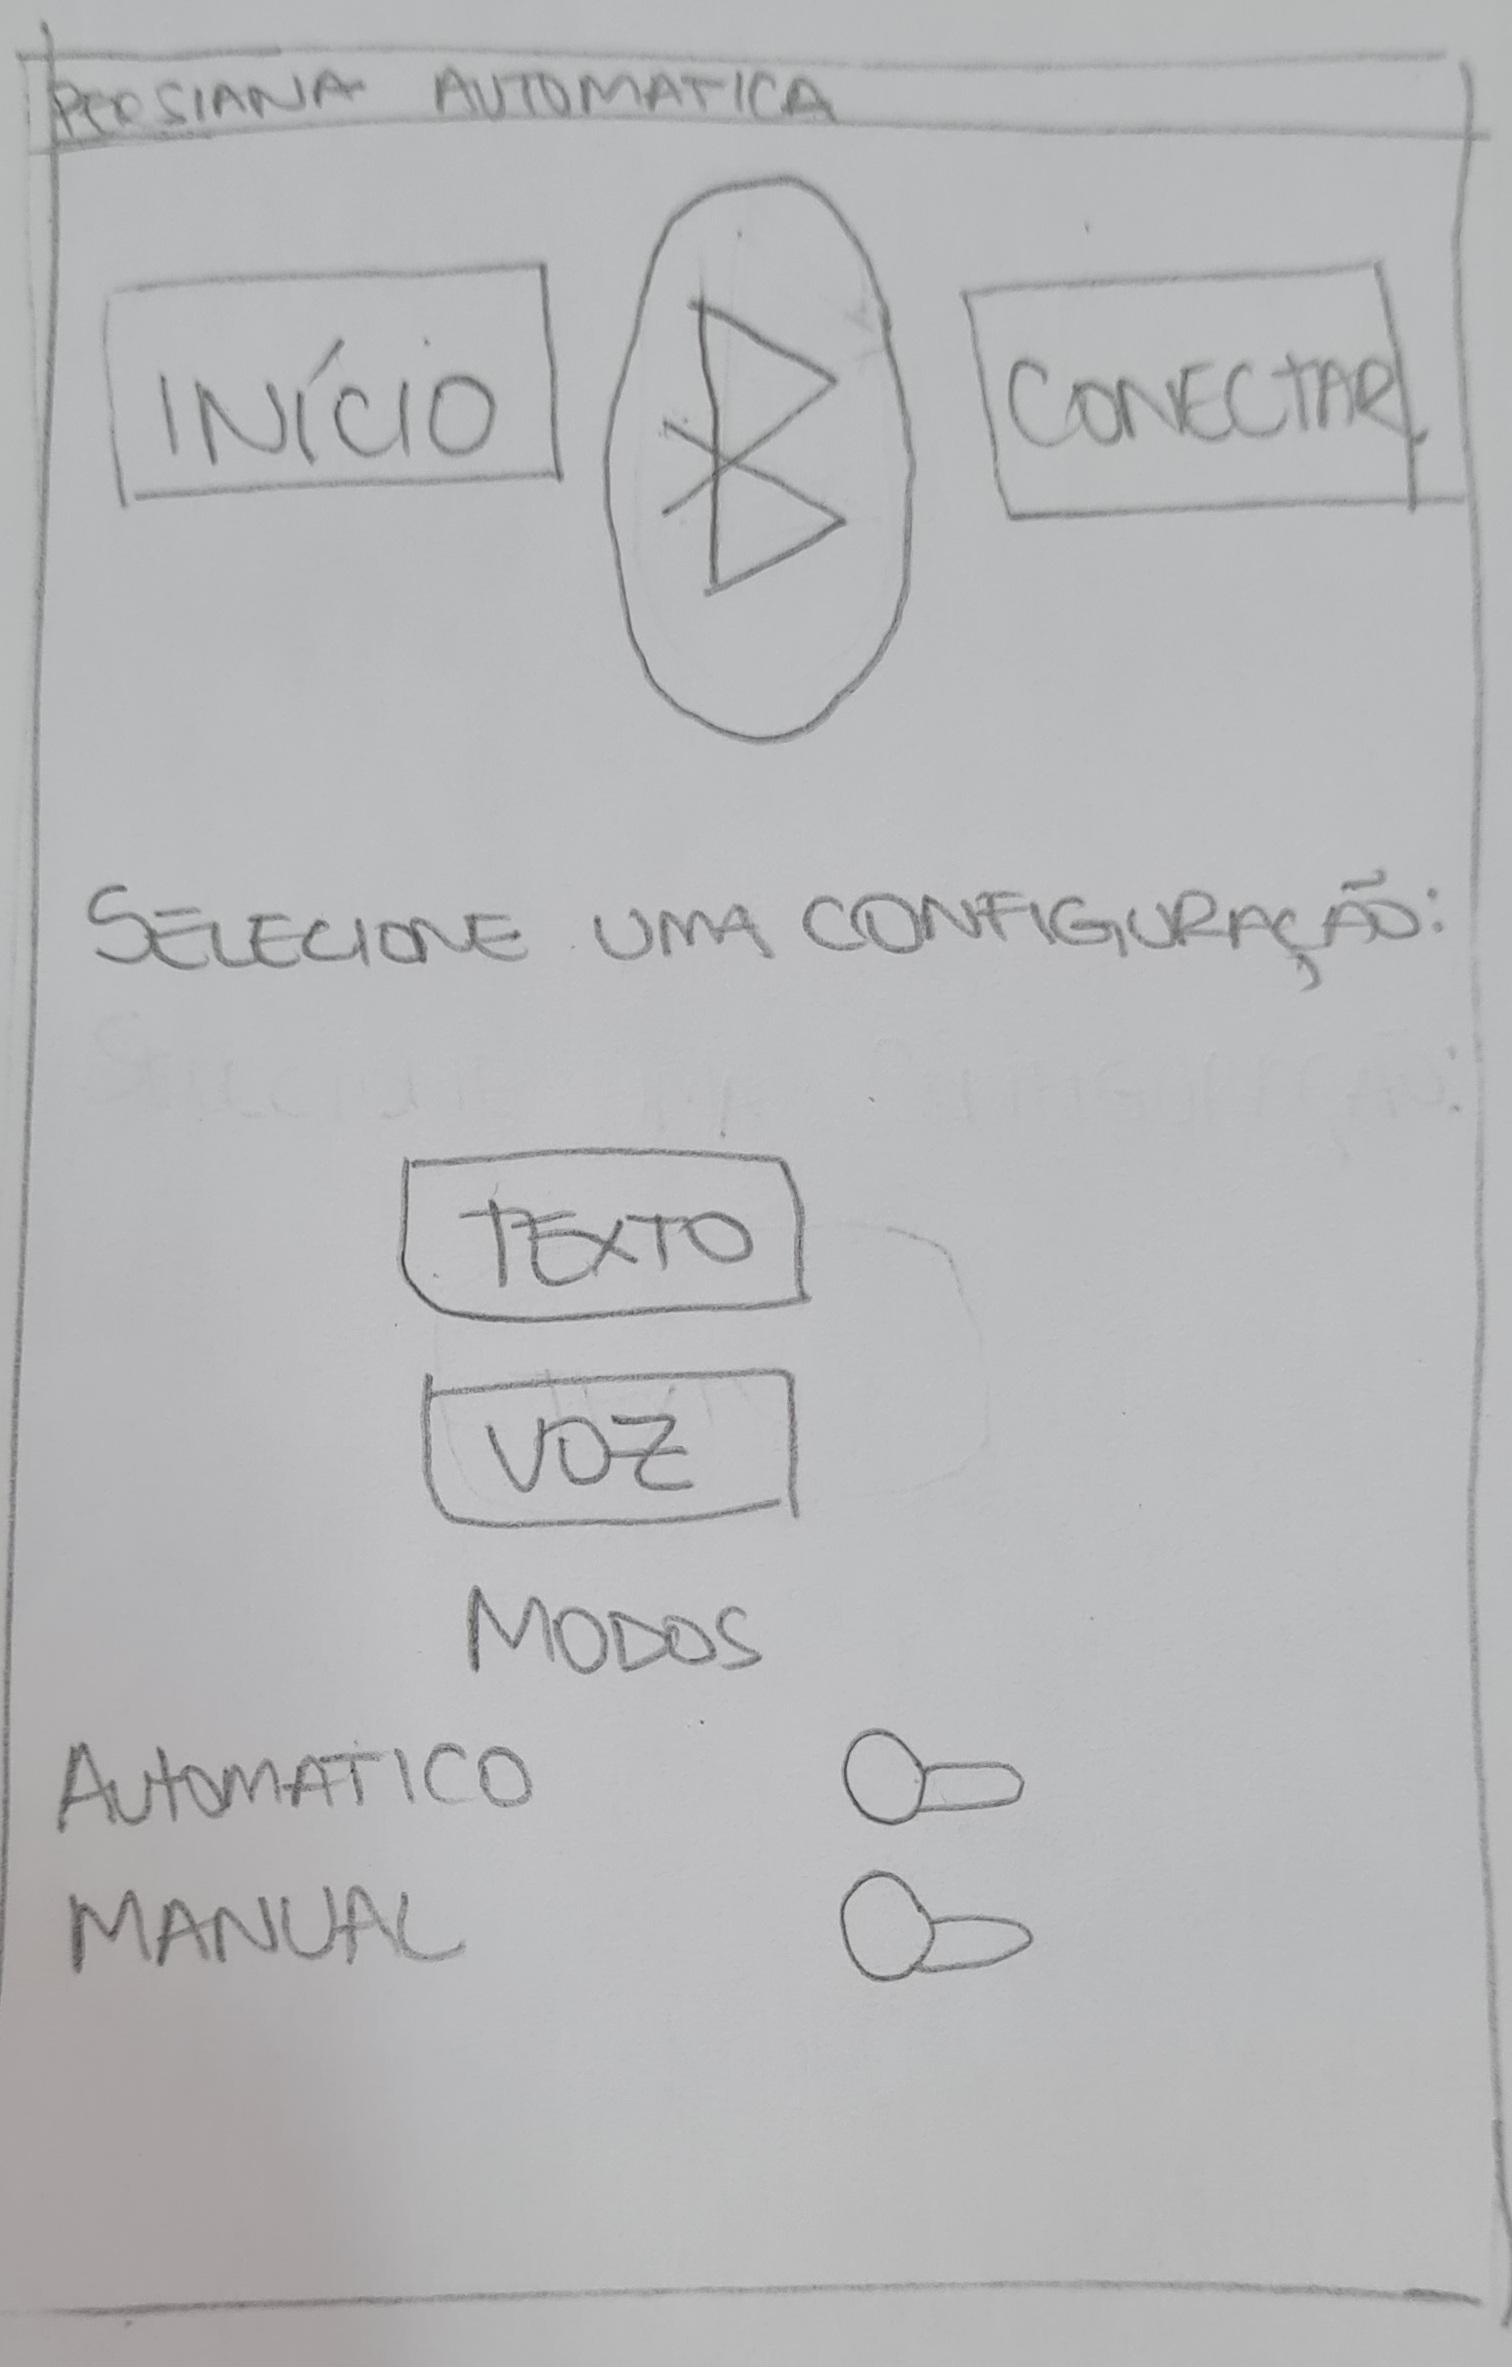Button: (963, 255, 1427, 521), (100, 261, 561, 511), (399, 1147, 808, 1323), (423, 1368, 801, 1527)
Image: (602, 174, 917, 744)
Label: (83, 866, 1446, 990), (54, 50, 853, 133), (464, 1584, 765, 1675)
Screen: (5, 47, 1510, 2315)
Switch: (66, 1872, 1030, 1979), (55, 1727, 1024, 1832)
